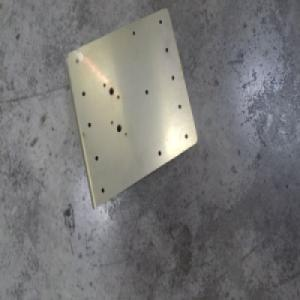MetalSheet: (62, 6, 198, 212)
